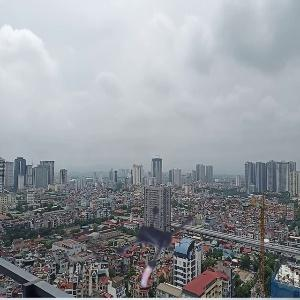drone: (100, 196, 204, 300)
